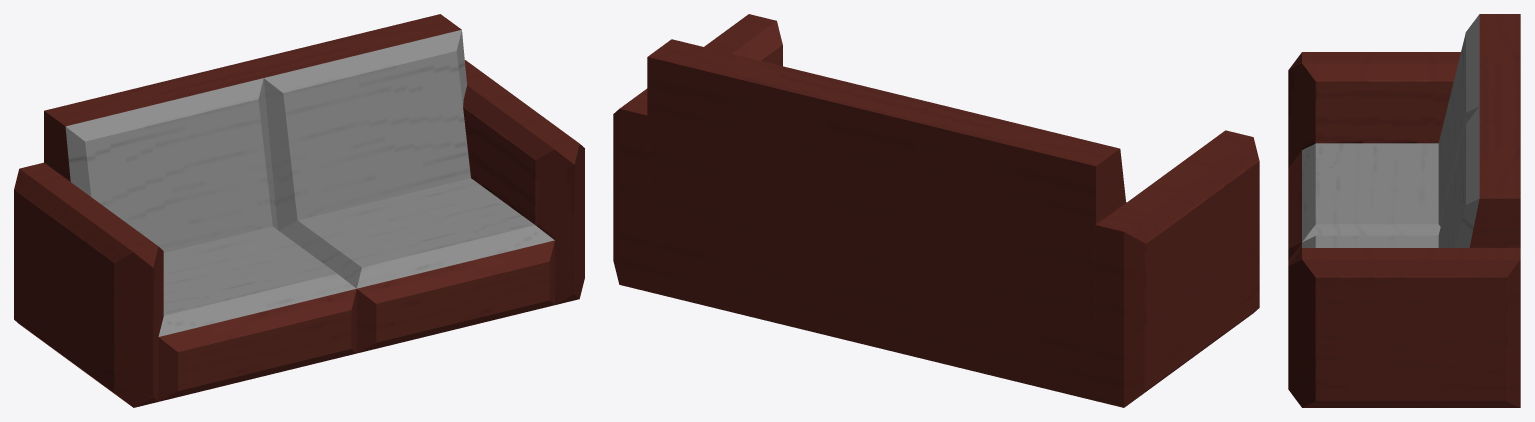
File: M_HD_Sofa_LowPoly.fbx
3 renders of one model, left to right at view 1: azimuth 30°, elevation 25°; view 2: azimuth 150°, elevation 25°; view 3: azimuth 270°, elevation 25°, orthographic. The views are drawn at different scales.
Parts seen in each view (by area): view 1: Sofa; view 2: Sofa; view 3: Sofa.
Boxes of the visible parts, bbox=[...] form: Sofa: bbox=[14, 14, 584, 407]; Sofa: bbox=[613, 14, 1259, 407]; Sofa: bbox=[1288, 14, 1520, 407].
Bounding box in the file's own units: 332 × 140 × 149.
1 material, 1 textured.
